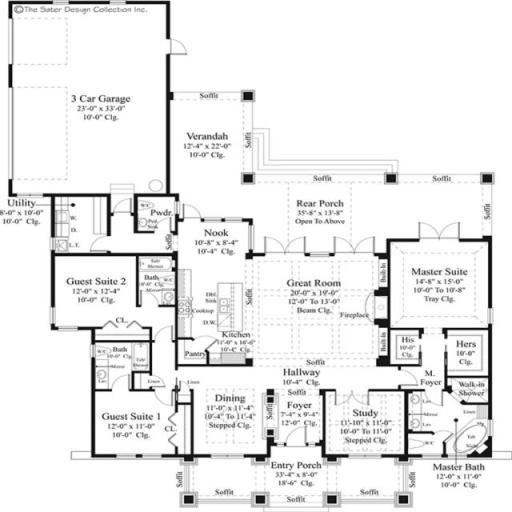Room: (190, 388, 268, 465), (93, 388, 176, 455), (56, 258, 132, 327), (332, 402, 398, 451)
bathroom: (412, 396, 499, 494), (92, 338, 156, 386)
garage: (13, 6, 167, 192)
hall: (252, 258, 381, 367), (172, 94, 251, 193), (397, 246, 487, 322)
kitchen: (180, 254, 253, 369)
porch: (181, 179, 487, 243), (192, 452, 400, 498)
